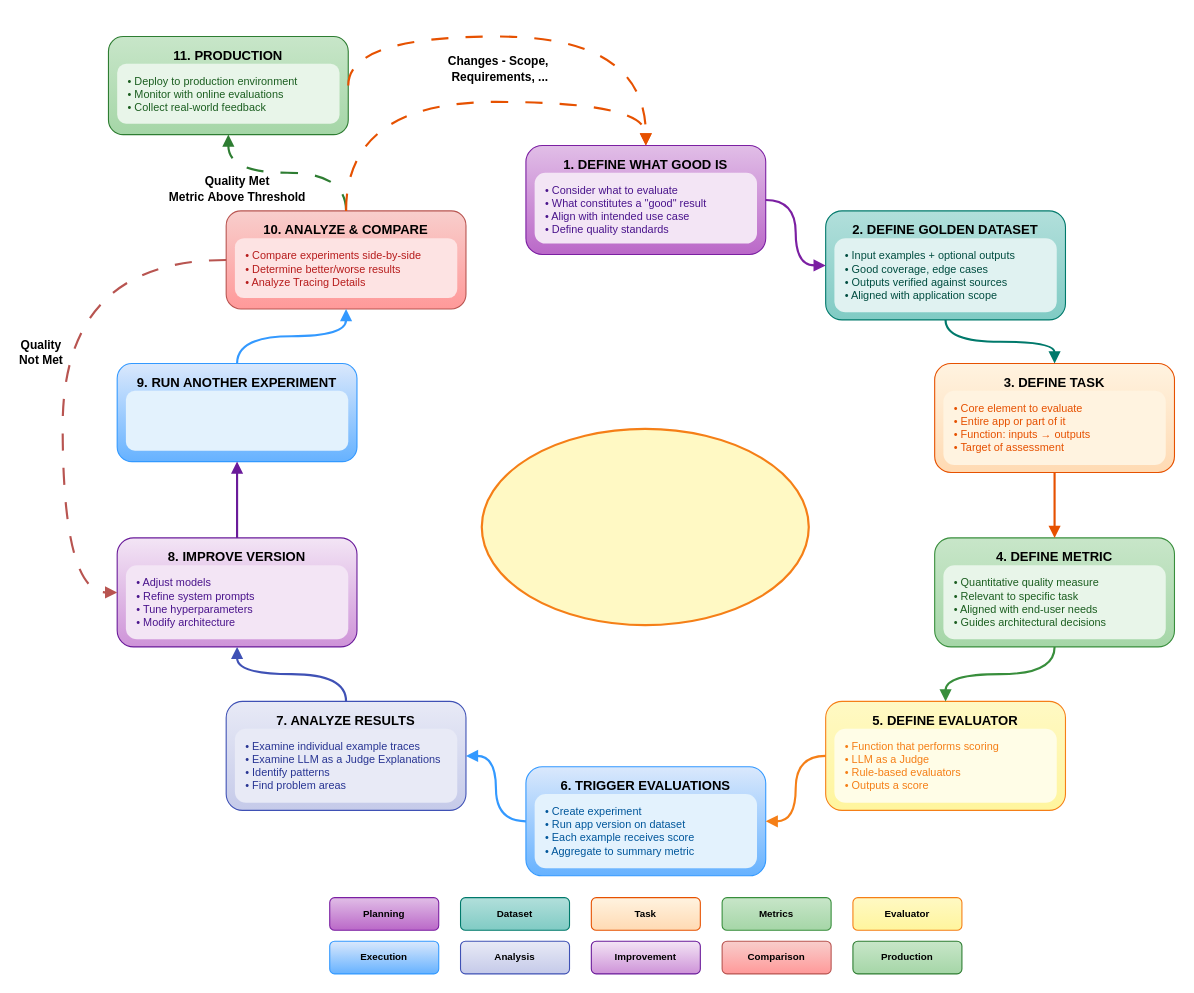
Some shapes in this 1194 by 993 pixel diagram are drawn without their labels. The shapes that lost their labels are listed below. From the top down, each one's centre as x and y in pixels, then its label:
At pixel 236 420: "• Test improved version • Use same dataset • Same evaluation setup".
At pixel 644 526: "EVALUATION CYCLE".
